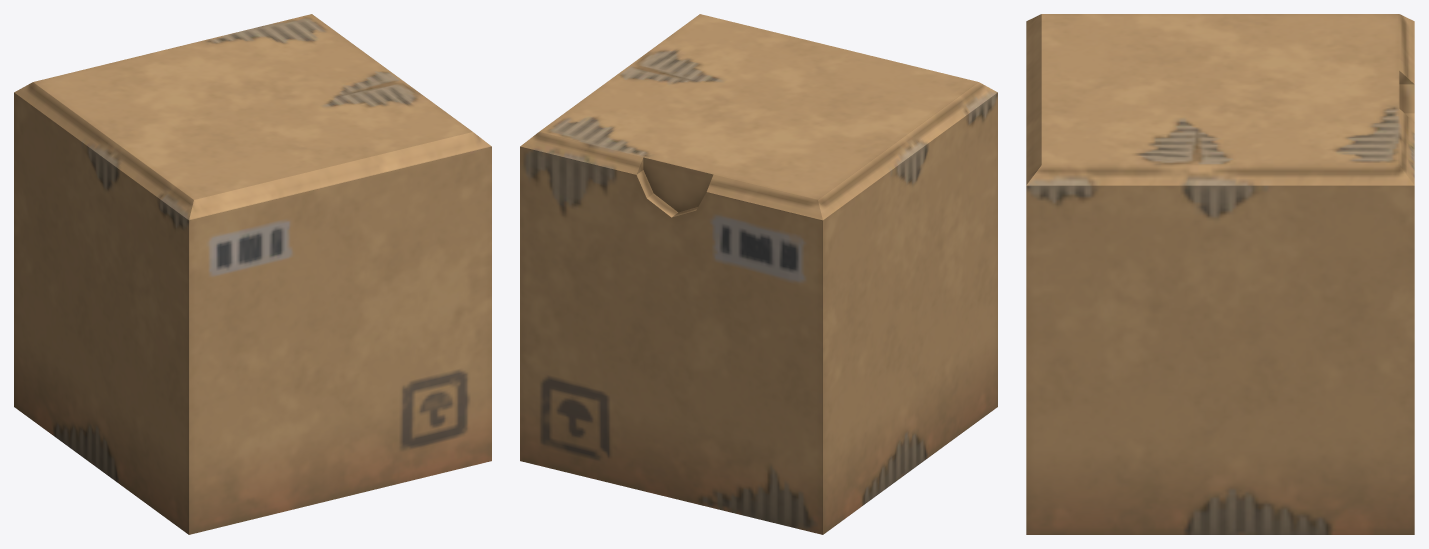
File: P_Paperbox_005_S1_M01.obj
3 views of the same model, side by side, from view 1: azimuth 30°, elevation 25°; view 2: azimuth 150°, elevation 25°; view 3: azimuth 270°, elevation 25° (orthographic). The views are drawn at different scales.
Bounding box in the file's own units: 0.6 × 0.619 × 0.6.
1 material, 1 textured.
